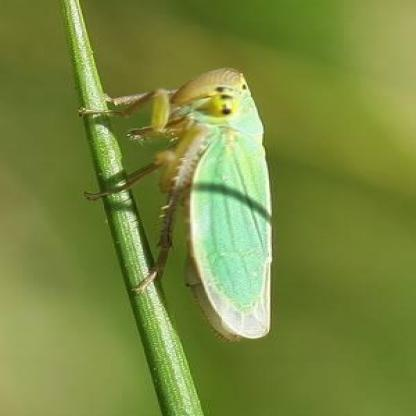Green-Leafhopper: (85, 66, 284, 347)
